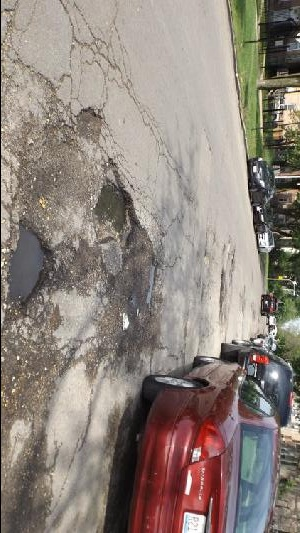pothole: (90, 156, 142, 255), (6, 217, 53, 313), (76, 105, 104, 147), (218, 269, 227, 311), (118, 309, 131, 333)
